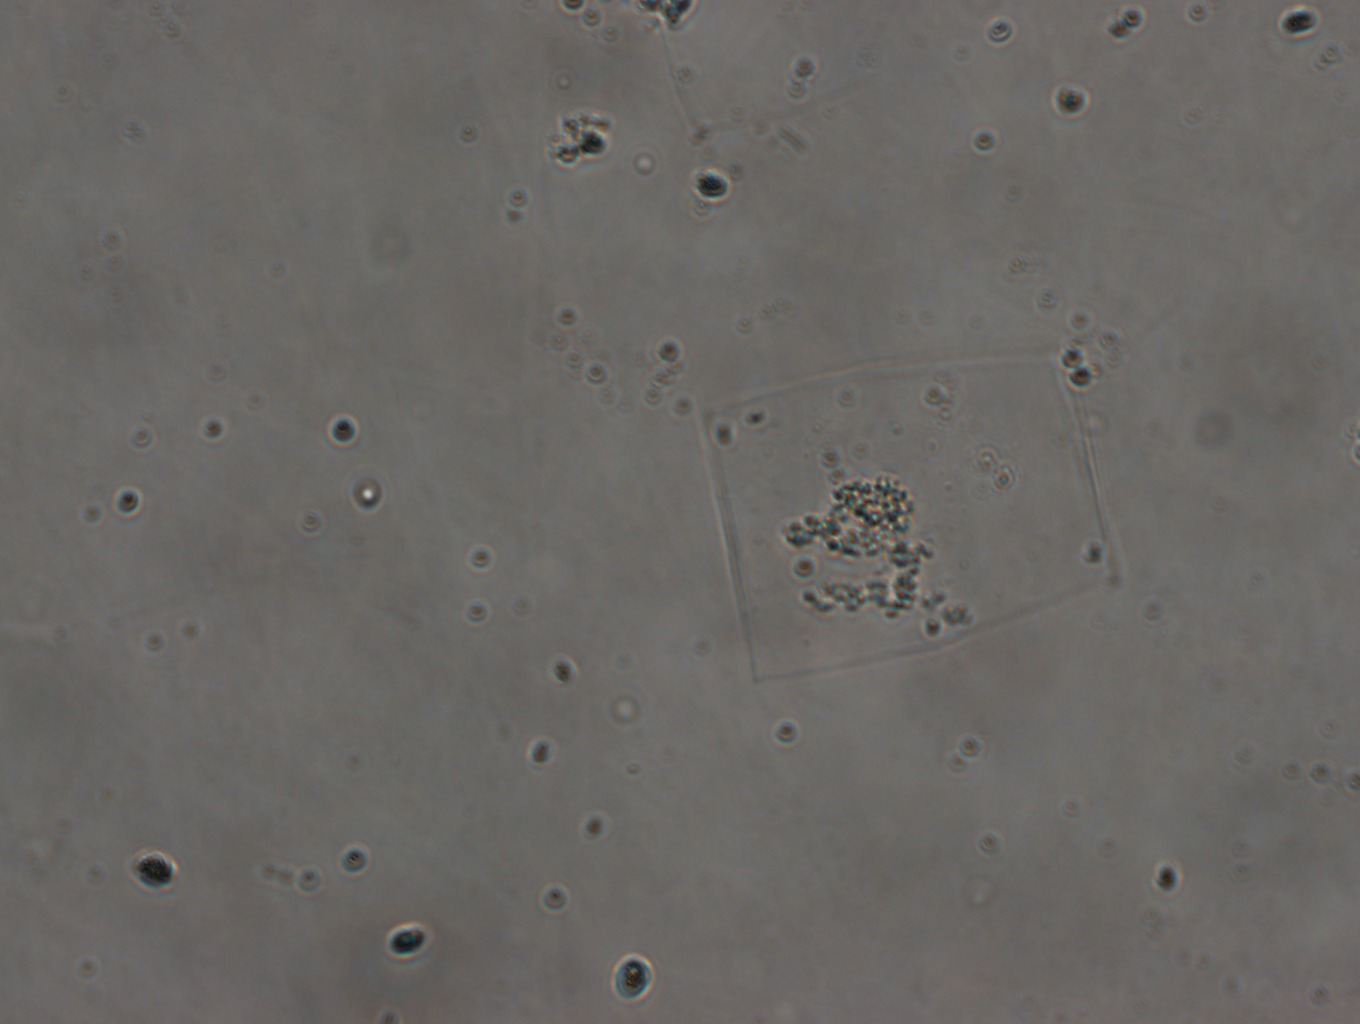helicotheca: (696, 350, 1128, 686)
